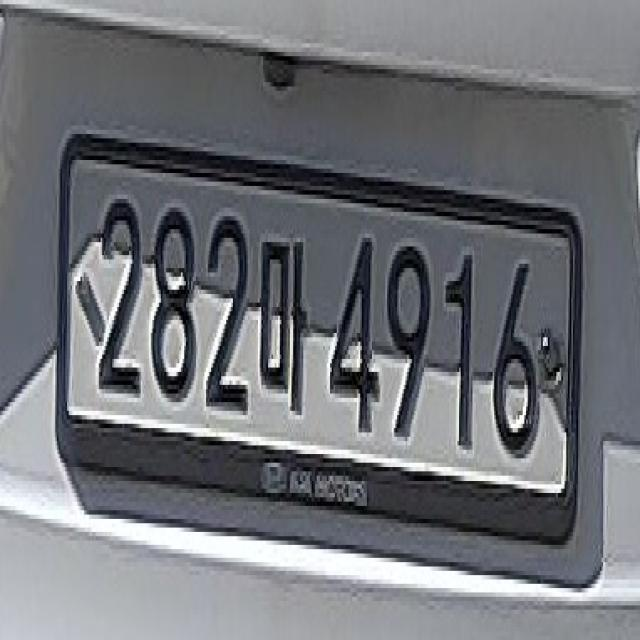plat: (53, 126, 591, 572)
